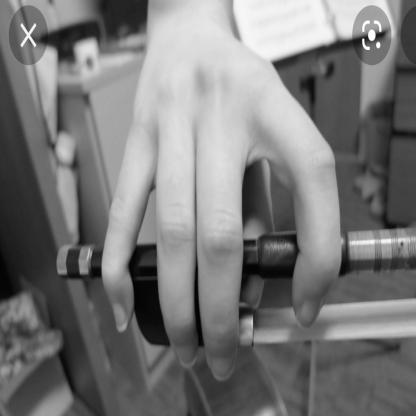bad: (104, 43, 350, 390)
